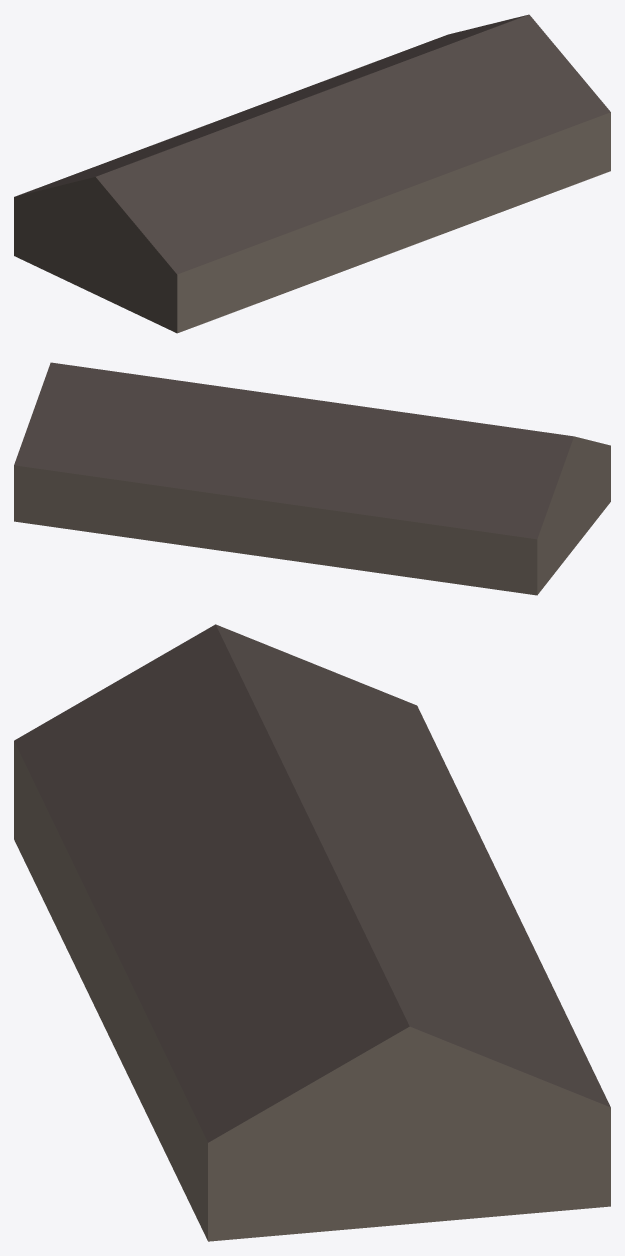
3 views of the same model, one above another, from view 1: azimuth 30°, elevation 25°; view 2: azimuth 150°, elevation 25°; view 3: azimuth 270°, elevation 25° (orthographic). The views are drawn at different scales.
Visible parts, largest first — view 1: HP-w858807460; view 2: HP-w858807460; view 3: HP-w858807460.
Part boxes in pixels (box(x1,y1,x2,y2)): HP-w858807460: box(14, 14, 610, 333); HP-w858807460: box(14, 362, 610, 595); HP-w858807460: box(14, 624, 610, 1241).
Bounding box in the file's own units: 28.48 × 6 × 16.43.
